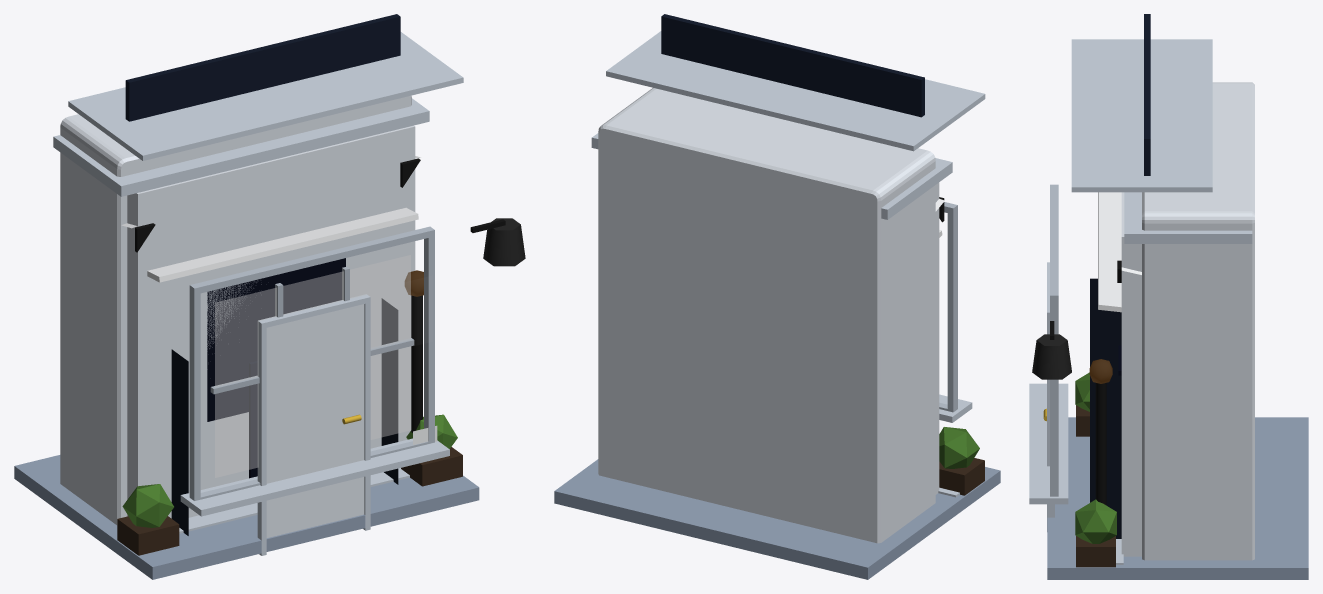
Rendered from minimal.glb.
The picture shows the model from 3 angles, left to right: view 1: azimuth 30°, elevation 25°; view 2: azimuth 150°, elevation 25°; view 3: azimuth 270°, elevation 25°; orthographic projection. The views are drawn at different scales.
Parts seen in each view (by area): view 1: object 33, FacadeBody, Door_Leaf (×2), FacadeGlass, Roof_Style, Trim, Sign_Plane, object 35, object 38, Interior_Recess, object 9, Door_Frame (+12 smaller); view 2: FacadeBody, Trim, Roof_Style, Sign_Plane, object 7, object 33, Foliage_Left, object 38, Planter_Left; view 3: FacadeBody, Roof_Style, Trim, object 33, Interior_Recess, object 9, Awning_Canopy, object 38, Lantern_Housing (×2), Foliage_Right, object 39, object 8 (+6 smaller).
Part boxes in pixels (x1,y1,x2,y2): object 33: (127,125,415,518); FacadeBody: (60,95,411,525); Door_Leaf (×2): (249,304,364,537); FacadeGlass: (215,255,410,477); Roof_Style: (68,32,463,160); Trim: (14,455,479,579); Sign_Plane: (125,14,400,121); object 35: (207,258,345,421); object 38: (53,98,429,196); Interior_Recess: (171,298,398,535); object 9: (180,438,449,516); Door_Frame: (257,294,370,555); FacadeBody: (598,88,935,543); Trim: (554,459,1000,579); Roof_Style: (606,31,985,151); Sign_Plane: (661,14,924,117); object 7: (947,207,957,412); object 33: (935,182,939,494); Foliage_Left: (939,427,979,468); object 38: (591,133,952,219); Planter_Left: (939,458,984,495); FacadeBody: (1142,82,1254,560); Roof_Style: (1071,39,1212,192); Trim: (1047,417,1308,579); object 33: (1121,192,1141,556); Interior_Recess: (1090,278,1121,538); object 9: (1029,383,1068,504); Awning_Canopy: (1098,192,1121,312); object 38: (1124,192,1252,243); Lantern_Housing (×2): (1032,334,1112,383); Foliage_Right: (1075,499,1116,543); object 39: (1095,383,1106,505); object 8: (1050,292,1058,496).
Bounding box in the file's own units: 3.63 × 4.27 × 2.51.
